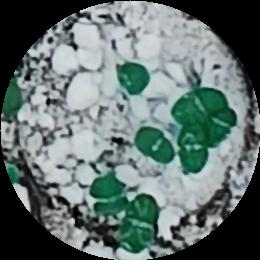Basil: (172, 86, 228, 122), (134, 126, 181, 167), (129, 192, 157, 249), (176, 123, 206, 176), (87, 176, 129, 210), (113, 60, 155, 93), (205, 108, 240, 145)
